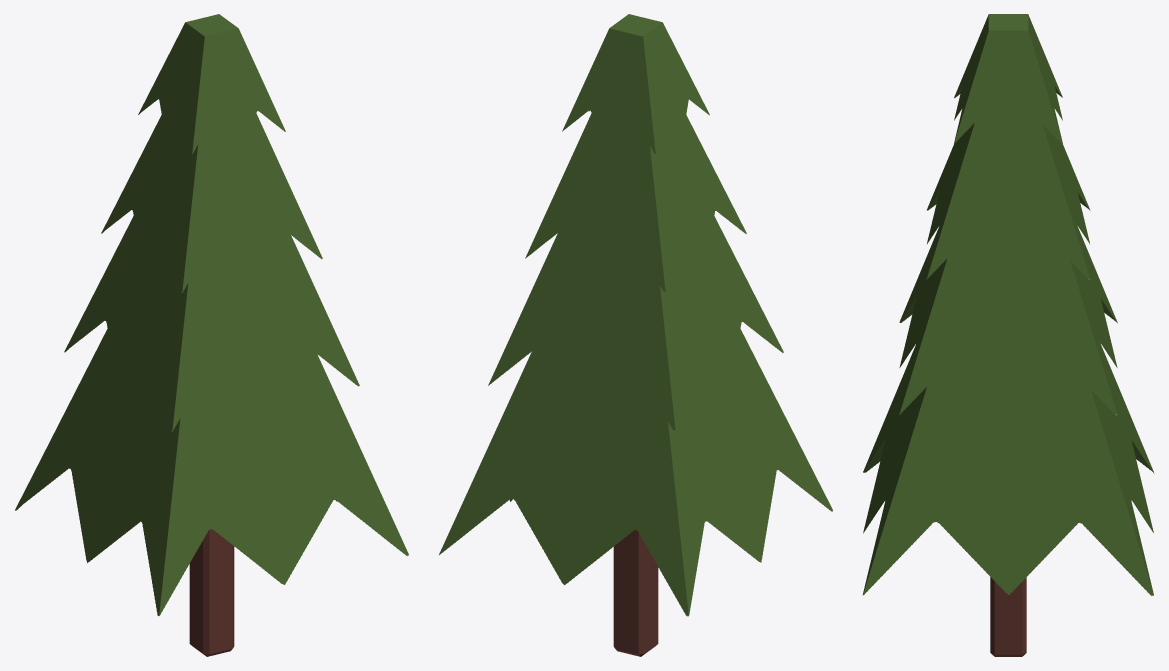
The model's file is Tree 4.fbx.
3 views of the same model, side by side, from view 1: azimuth 30°, elevation 25°; view 2: azimuth 150°, elevation 25°; view 3: azimuth 270°, elevation 25° (orthographic).
Visible parts, largest first — view 1: Tree_Crown_4, Tree_Crown_3, Tree_Crown_2, Tree_Crown_1, Trunk; view 2: Tree_Crown_4, Tree_Crown_3, Tree_Crown_2, Tree_Crown_1, Trunk; view 3: Tree_Crown_4, Tree_Crown_3, Tree_Crown_2, Tree_Crown_1, Trunk.
Part boxes in pixels (<box>): Tree_Crown_4: <box>15,329,408,615</box>; Tree_Crown_3: <box>64,216,359,431</box>; Tree_Crown_2: <box>101,113,322,292</box>; Tree_Crown_1: <box>138,14,285,154</box>; Trunk: <box>189,529,234,656</box>; Tree_Crown_4: <box>439,329,832,616</box>; Tree_Crown_3: <box>488,216,783,431</box>; Tree_Crown_2: <box>525,113,746,292</box>; Tree_Crown_1: <box>562,14,709,154</box>; Trunk: <box>613,529,658,656</box>; Tree_Crown_4: <box>862,344,1154,595</box>; Tree_Crown_3: <box>899,227,1117,415</box>; Tree_Crown_2: <box>926,116,1090,279</box>; Tree_Crown_1: <box>954,14,1062,144</box>; Trunk: <box>990,577,1026,656</box>.
Size of the model in its own units: 1.6 by 3.8 by 1.6.
Materials: 1 (1 with a texture image).
